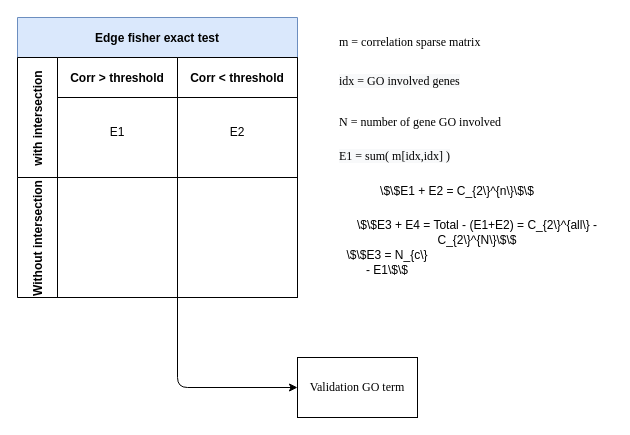
Some shapes in this 630 by 435 pixel diagram are drawn without their labels. Here are the shapes that lost their labels. From the top down, the centre of each, then its label:
the point at 117,237: E3
the point at 237,237: E4
